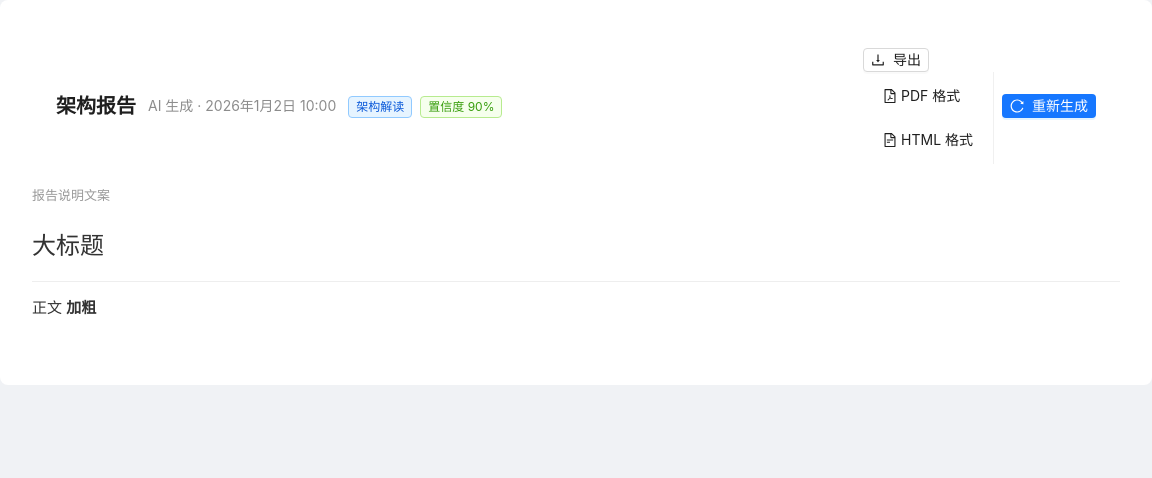
Test: ReportPanel.vue › generate 生成 › generate_whenRegeneratingWithReport_shouldShowReprocessingTagAndDisableExport
Click the button "重新生成" at (1049, 106), box [1002,94,1096,118]
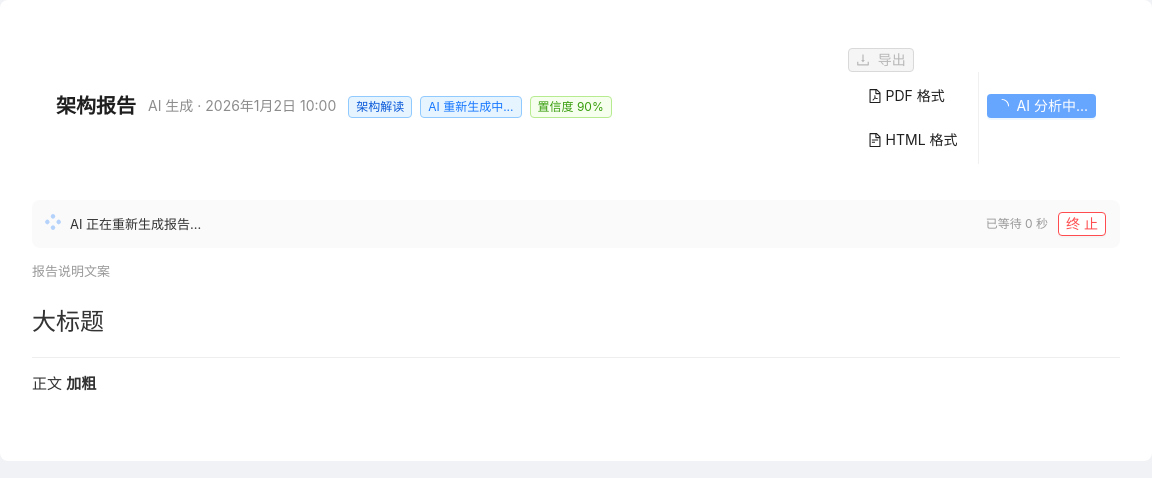
Expected: the text "AI 重新生成中..." is shown, [420,96,522,118]
Expected: the element with class "report-task-progress" is shown, [32,200,1120,248]
Expected: the element with class "report-task-progress" shows "AI 正在重新生成报告…", [70,216,201,232]
